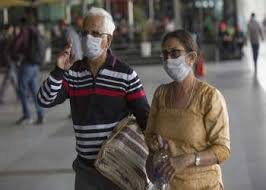mask: (160, 30, 200, 82), (79, 7, 114, 58)
